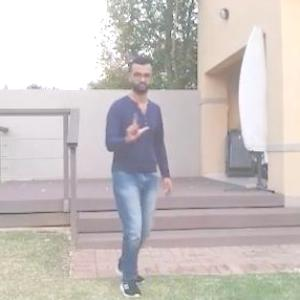land_hand: (123, 106, 157, 147)
